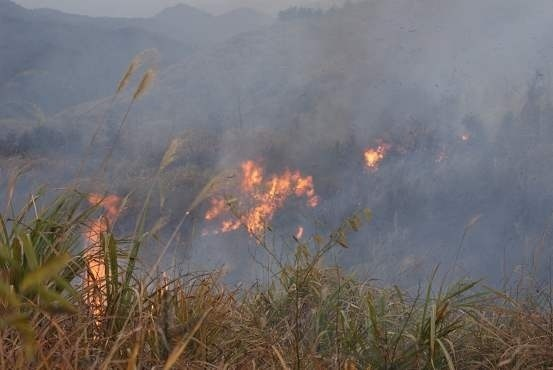fire: (201, 159, 320, 241), (359, 137, 392, 170)
